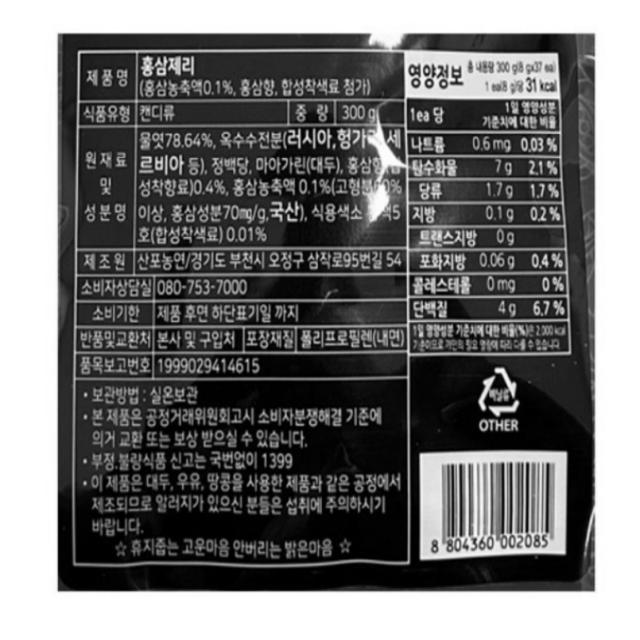Nutrition Label: (402, 39, 585, 373)
